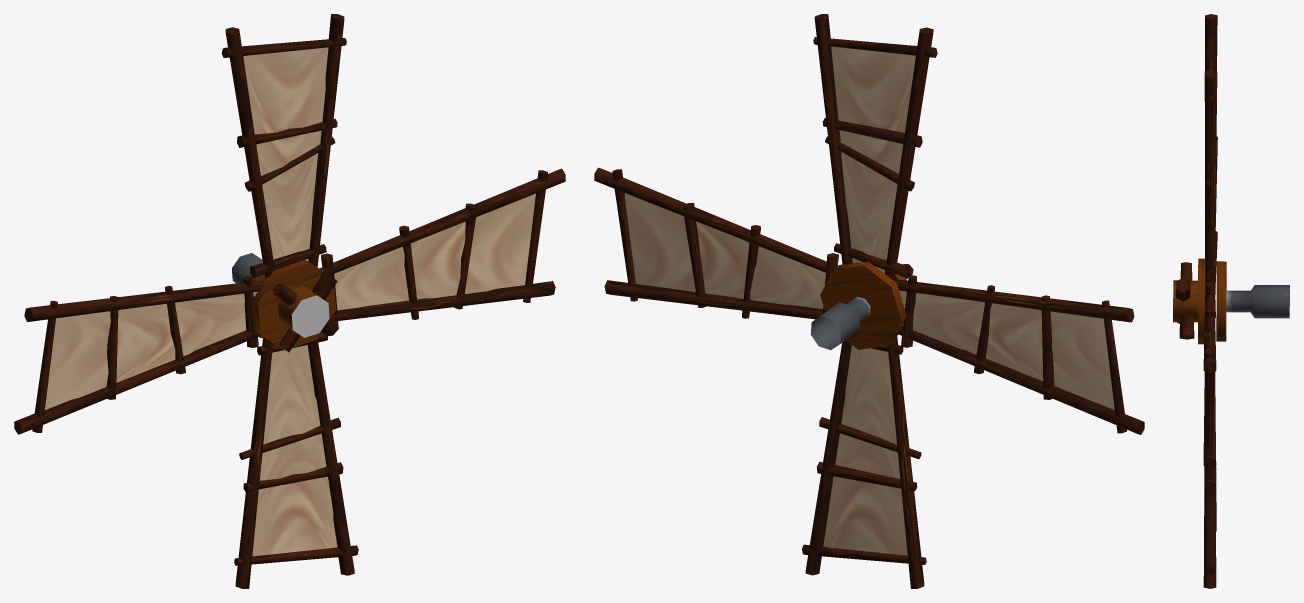
File: SM_BLD_windmill_sail.fbx
3 renders of one model, left to right at view 1: azimuth 30°, elevation 25°; view 2: azimuth 150°, elevation 25°; view 3: azimuth 270°, elevation 25°, orthographic. The views are drawn at different scales.
Visible parts, largest first — view 1: SM_BLD_windmill_sail; view 2: SM_BLD_windmill_sail; view 3: SM_BLD_windmill_sail.
Boxes of the visible parts, x1,y1,x2,y2 form: SM_BLD_windmill_sail: (14,14,565,588); SM_BLD_windmill_sail: (594,14,1144,588); SM_BLD_windmill_sail: (1173,14,1289,588).
Size of the model in its own units: 1707 by 1707 by 348.
